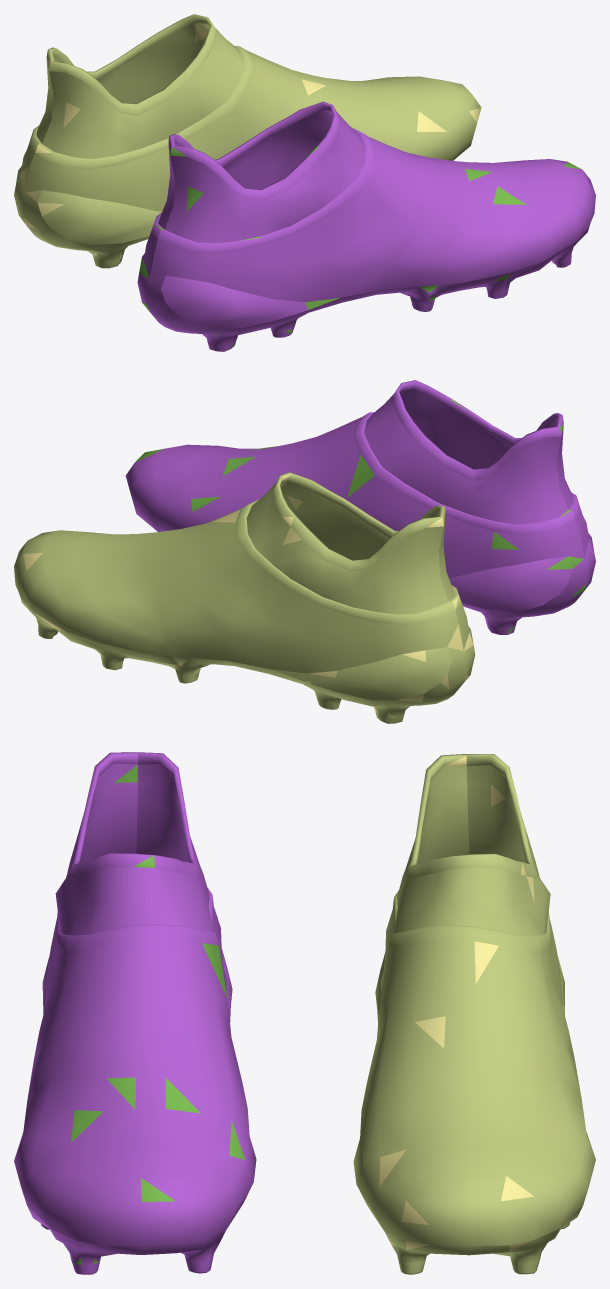
Rendered from soccershoes 1.fbx.
3 renders of one model, top to bottom at view 1: azimuth 30°, elevation 25°; view 2: azimuth 150°, elevation 25°; view 3: azimuth 270°, elevation 25°, orthographic. The views are drawn at different scales.
Visible parts, largest first — view 1: right, left; view 2: left, right; view 3: right, left.
Boxes of the visible parts, <box> form: right: <box>137,101,595,351</box>; left: <box>14,14,481,268</box>; left: <box>14,472,475,723</box>; right: <box>125,380,595,634</box>; right: <box>14,752,256,1274</box>; left: <box>353,754,595,1274</box>.
Bounding box in the file's own units: 2495 × 1091 × 2029.
